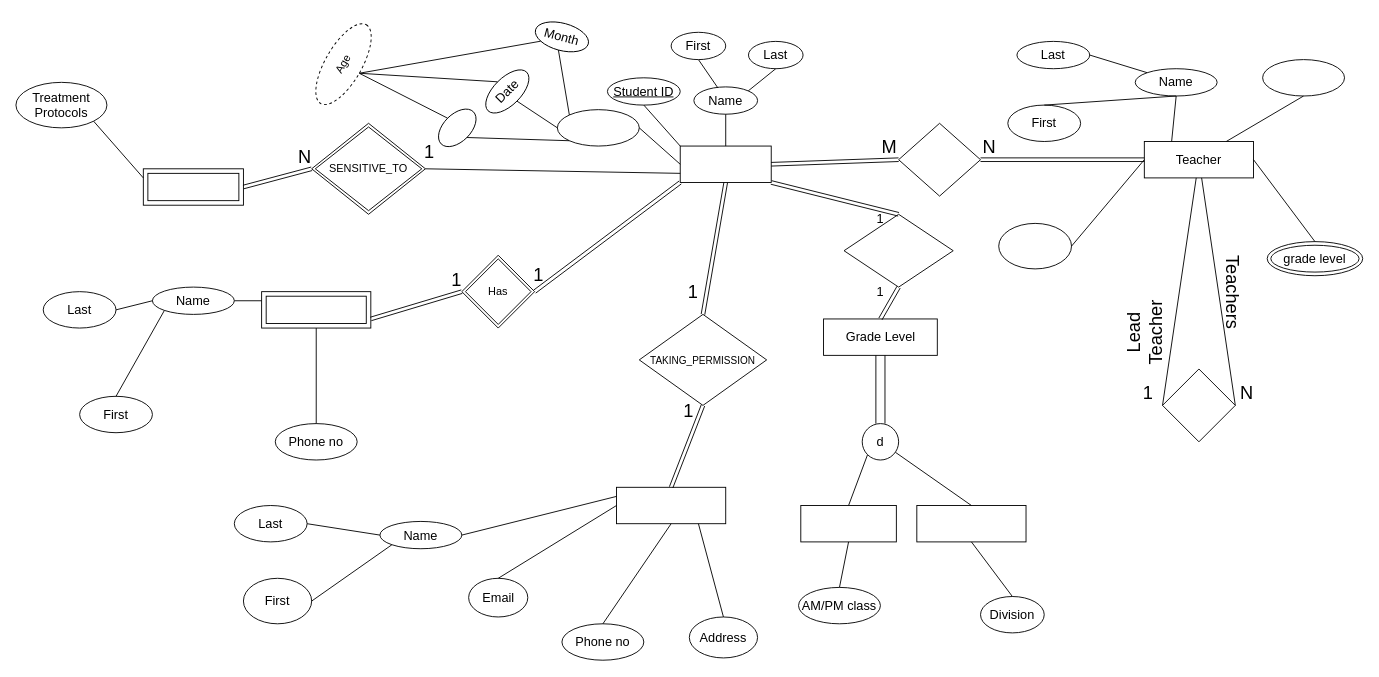
This 1379x677 diagram has some shape labels left out. Each missing label, with the box of its shape:
Allergies: (142, 168, 243, 205)
Date Of Birth: (556, 109, 639, 146)
Elementary: (916, 505, 1026, 542)
Emergency Contact: (261, 291, 371, 328)
Guardian/Parents: (616, 486, 726, 524)
Kindargarten: (800, 505, 896, 542)
LEARN_FROM: (898, 122, 981, 196)
Manages: (1162, 368, 1235, 442)
Prefix: (1262, 59, 1345, 96)
Student: (679, 145, 771, 182)
STUDYING_IN: (843, 213, 953, 287)
Teaching ID: (998, 222, 1072, 269)
Year: (430, 101, 483, 154)
